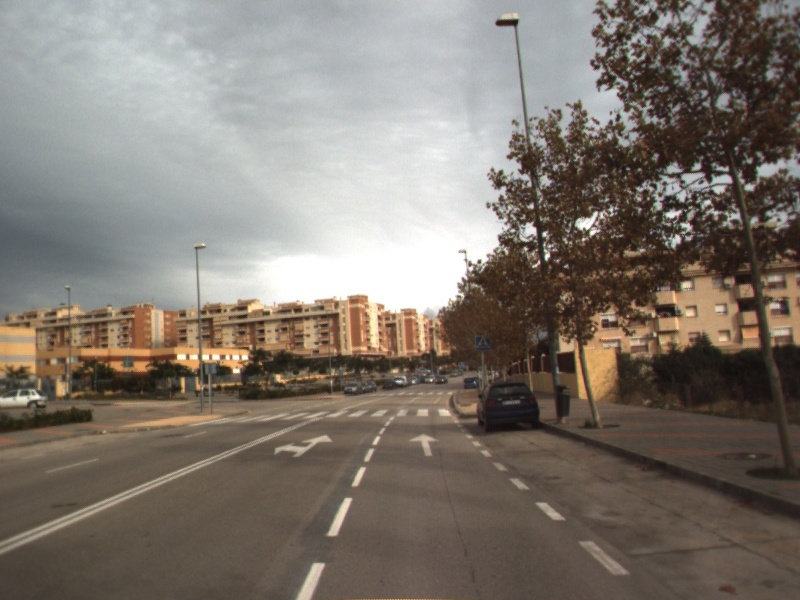STRAIGHT: (407, 432, 442, 458)
STRAIGHT_LEFT: (272, 432, 335, 459)
